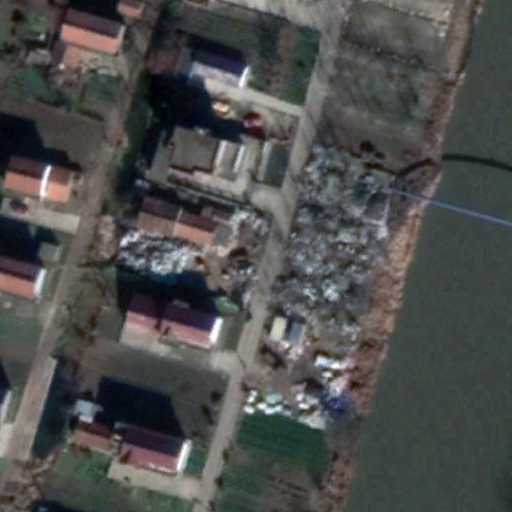msw: (241, 134, 394, 438), (115, 226, 199, 286)
